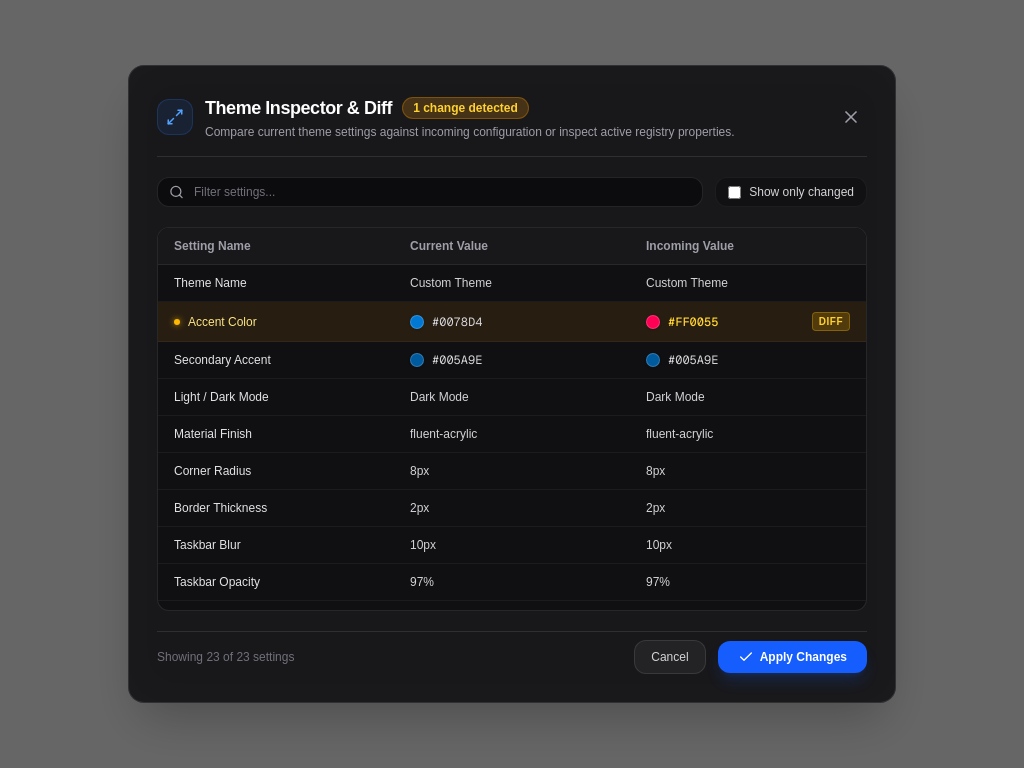
Test case: ThemeDiffModal › toggles filter to only show changed settings
Check: the text "Light / Dark Mode" is shown, box left=174, top=389, right=269, bottom=405
Step 1. Click the checkbox labelled "Show only changed" → (735, 192), box left=728, top=186, right=741, bottom=198
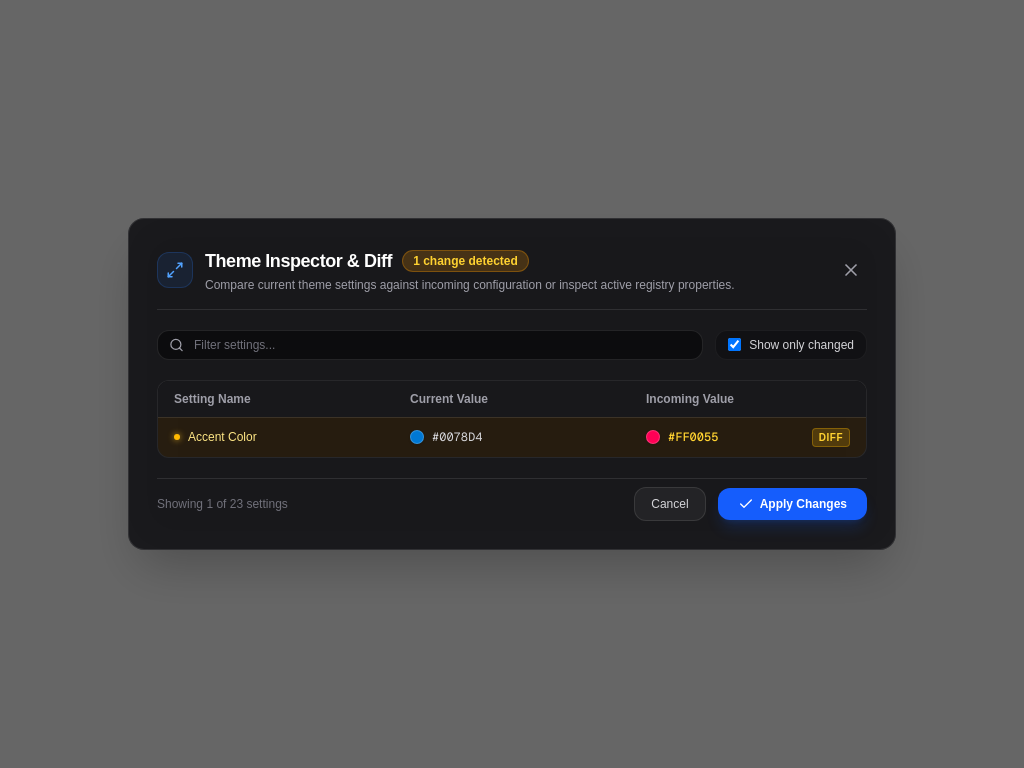
Check: the text "Accent Color" is shown, box left=188, top=430, right=257, bottom=446
Check: the text "Light / Dark Mode" is gone
